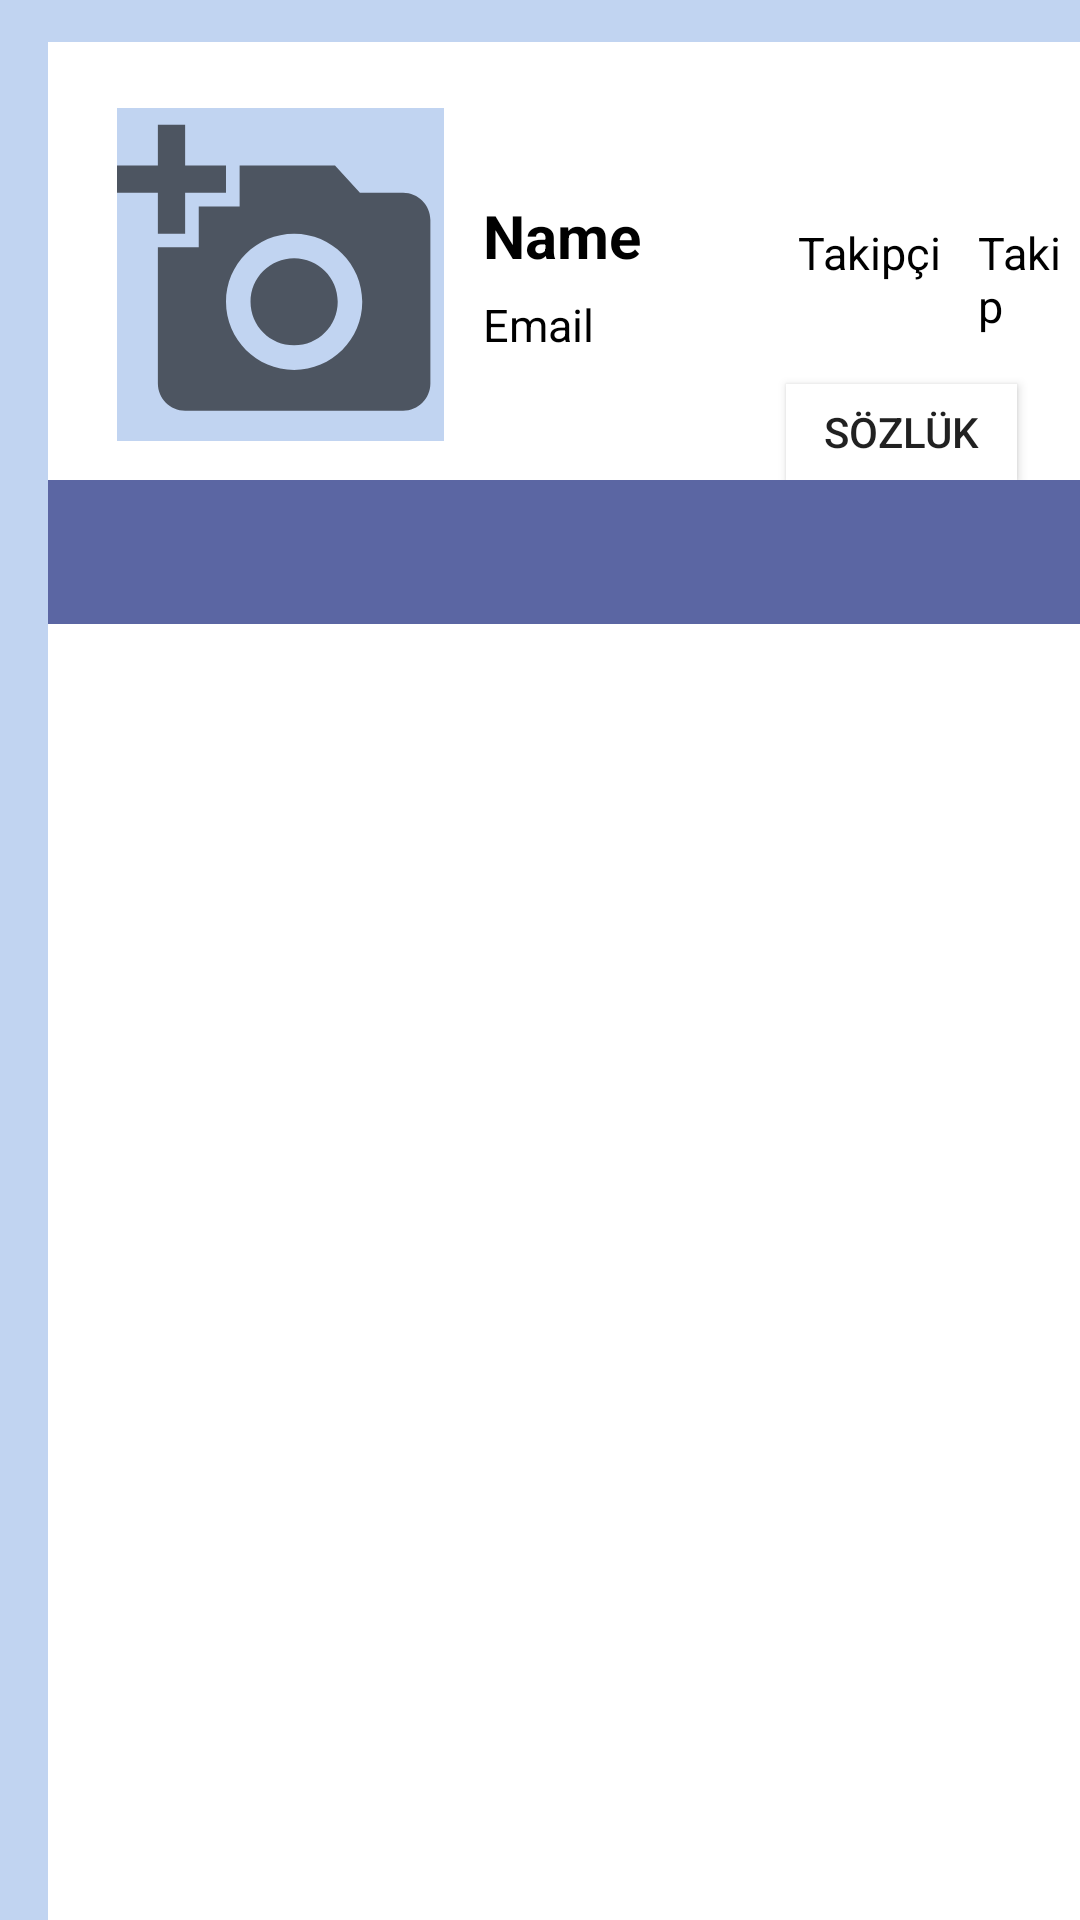

Named icons in this screenshot (1080 × 1920) and their bounding boxes, (x1, y1, x2, y2):
add photo: (117, 108, 444, 441)
